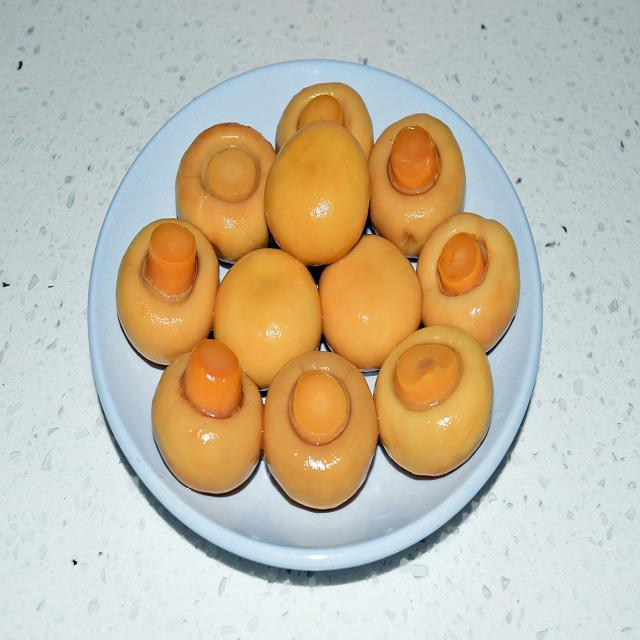Agaricus bisporus: (373, 328, 495, 476), (267, 351, 376, 508), (155, 342, 262, 493), (267, 129, 370, 261), (418, 227, 527, 349), (176, 127, 278, 256), (116, 218, 217, 348), (367, 114, 466, 243), (320, 238, 422, 363), (214, 255, 320, 369)
